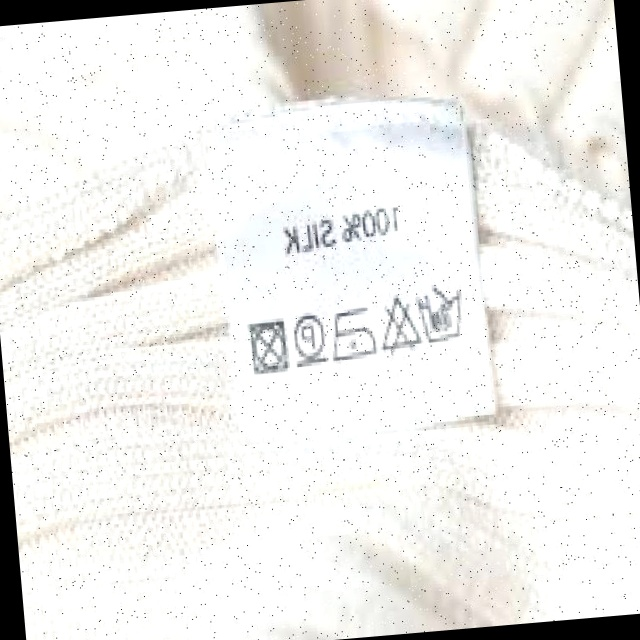DN_bleach: (375, 292, 422, 355)
DN_tumble_dry: (243, 314, 291, 379)
dry_clean_any_solvent_except_trichloroethylene: (288, 312, 329, 371)
hand_wash: (414, 281, 470, 346)
iron_low: (327, 302, 377, 364)
